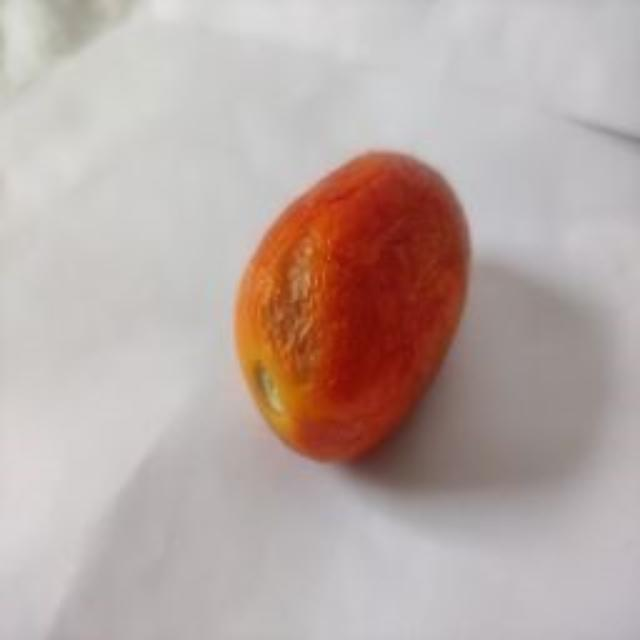defect: (228, 141, 478, 470)
